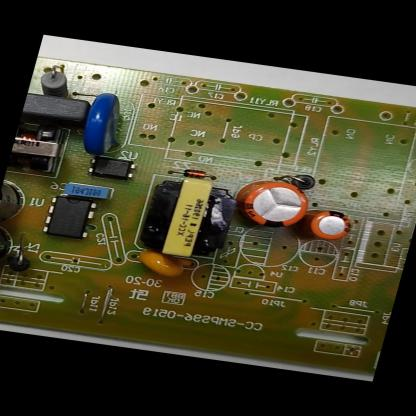Cap1: (227, 170, 319, 238)
Cap2: (294, 203, 359, 249)
Cap3: (0, 175, 35, 233)
Cap4: (0, 219, 31, 278)
MOSFET: (35, 190, 103, 246)
Mov: (71, 87, 145, 165)
Resistor: (28, 61, 82, 100)
Transformer: (134, 170, 244, 265), (6, 118, 73, 179)
